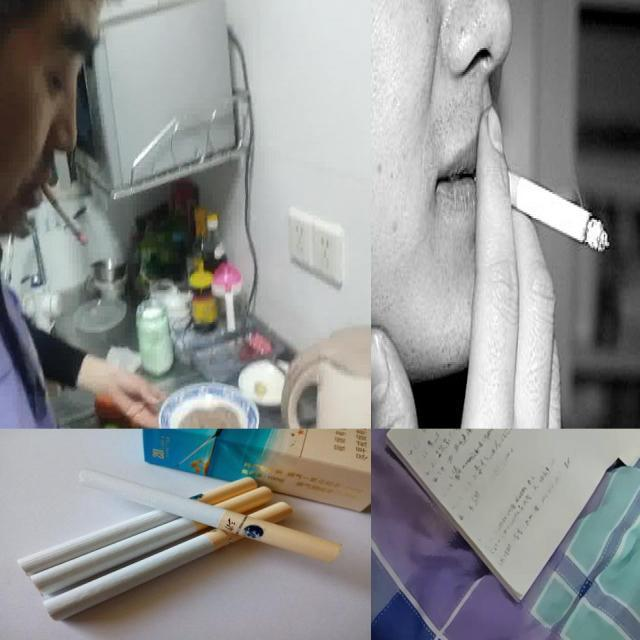smoking: (43, 501, 294, 621), (29, 486, 274, 596), (78, 466, 342, 564), (17, 476, 258, 576), (476, 161, 610, 254), (41, 181, 87, 245)
